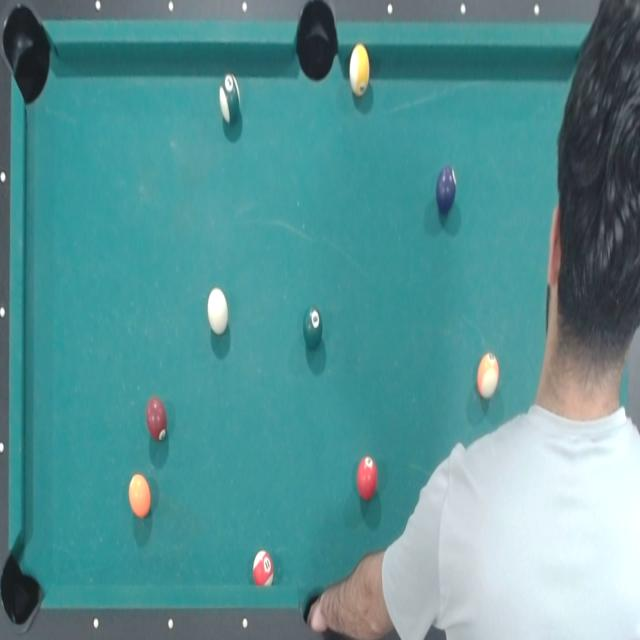cue_ball: (207, 285, 230, 338)
green_solid: (302, 303, 323, 350)
green_stripe: (218, 72, 246, 130)
maroon_solid: (145, 395, 169, 442)
orange_solid: (128, 472, 153, 520)
orange_stripe: (475, 350, 502, 400)
player_body: (385, 0, 640, 640)
purple_solid: (434, 163, 458, 215)
red_solid: (357, 455, 379, 502)
red_stripe: (252, 548, 275, 588)
yellow_stripe: (347, 41, 371, 98)
